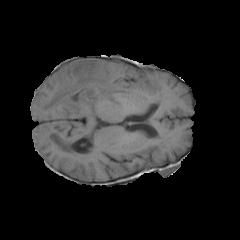glioma: (42, 58, 129, 115)
